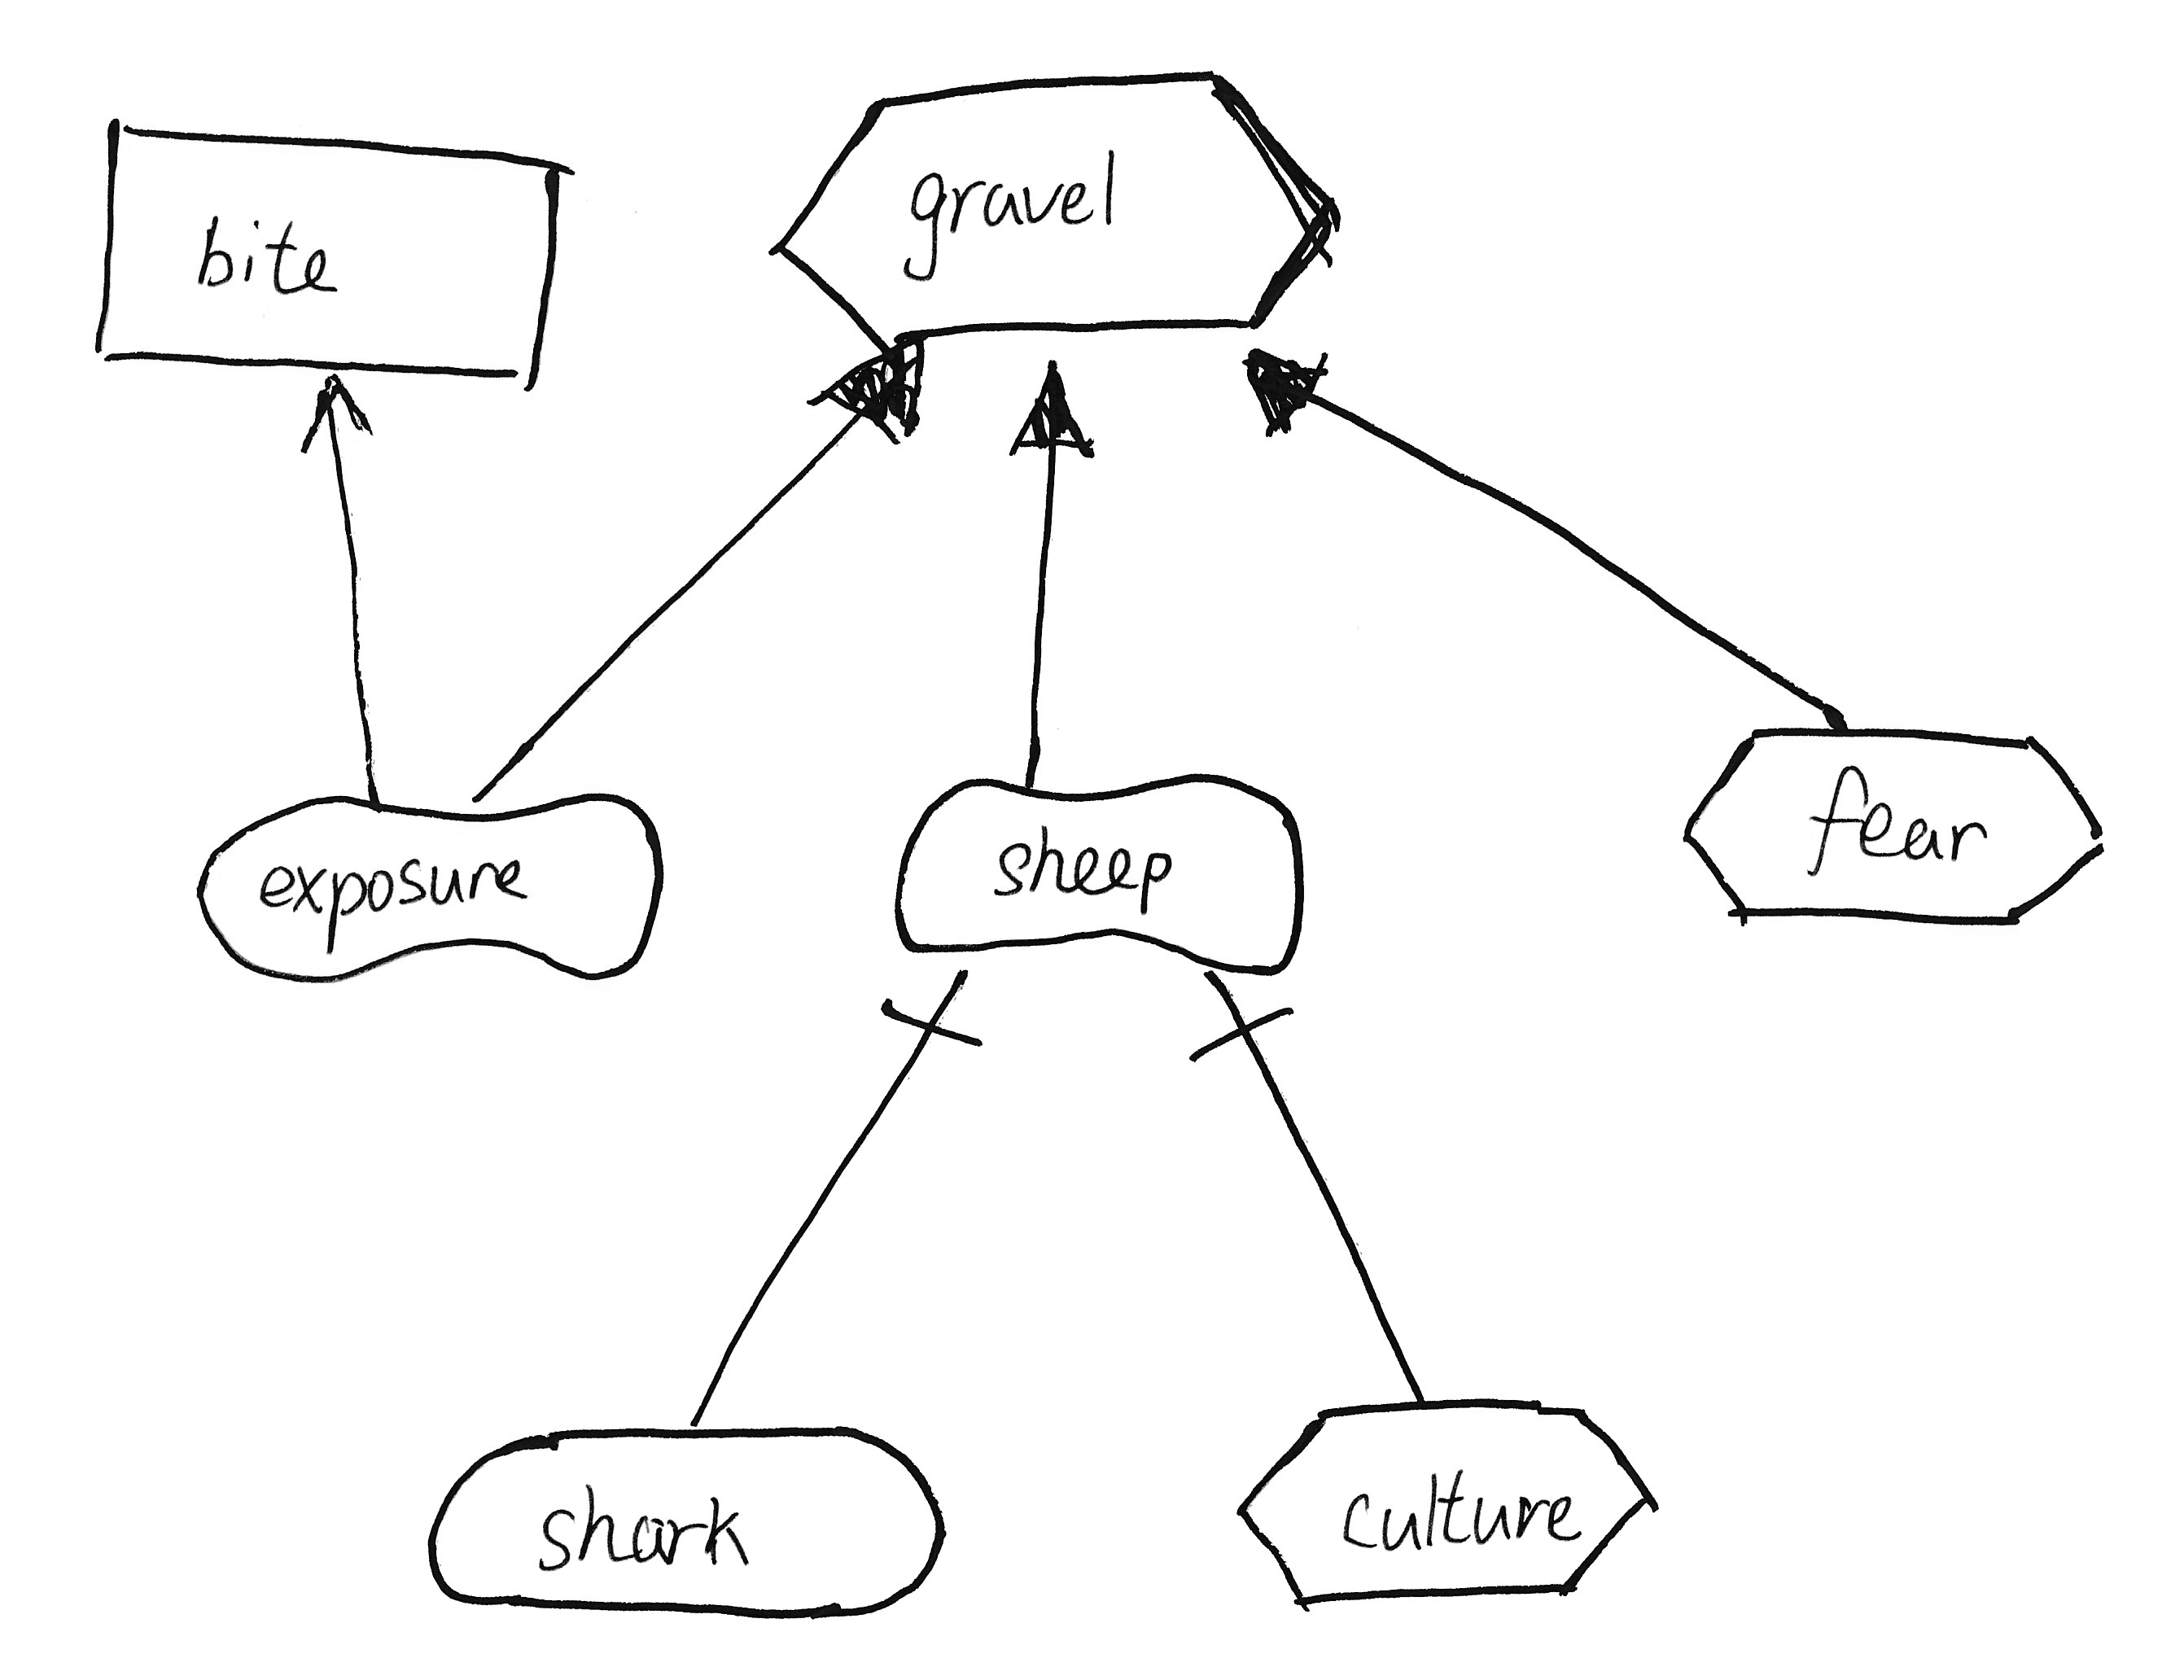and: (1166, 981, 1314, 1082), (866, 971, 1006, 1069)
arrow: (279, 367, 388, 476)
goal: (411, 1406, 961, 1634)
or: (799, 335, 946, 457), (990, 346, 1111, 473), (1223, 332, 1341, 457)
quality: (178, 778, 683, 994), (880, 755, 1320, 992)
resource: (67, 97, 591, 401)
task: (753, 41, 1357, 356), (1223, 1378, 1676, 1622), (1669, 708, 2129, 944)
